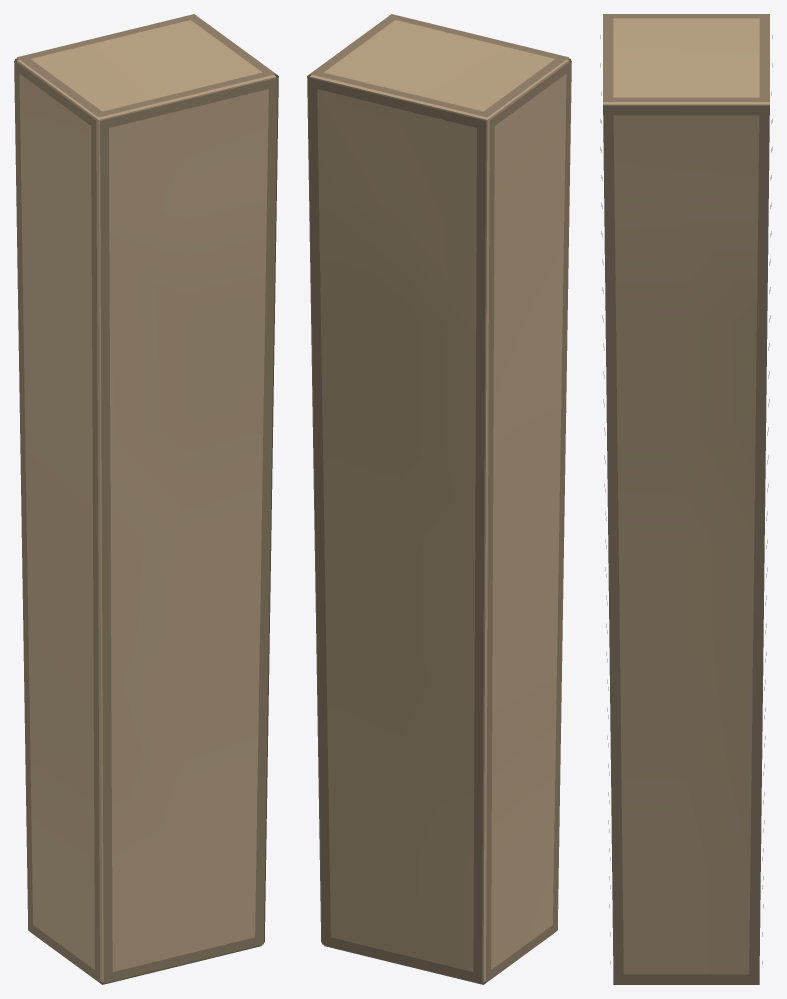
Rendered from key-z.glb.
3 views of the same model, side by side, from view 1: azimuth 30°, elevation 25°; view 2: azimuth 150°, elevation 25°; view 3: azimuth 270°, elevation 25° (orthographic).
Visible parts, largest first — view 1: key-z; view 2: key-z; view 3: key-z.
Part boxes in pixels (x1,y1,x2,y2): key-z: (14,14,278,984); key-z: (307,14,571,984); key-z: (600,14,772,984).
Bounding box in the file's own units: 0.0308 × 0.1408 × 0.0248.
